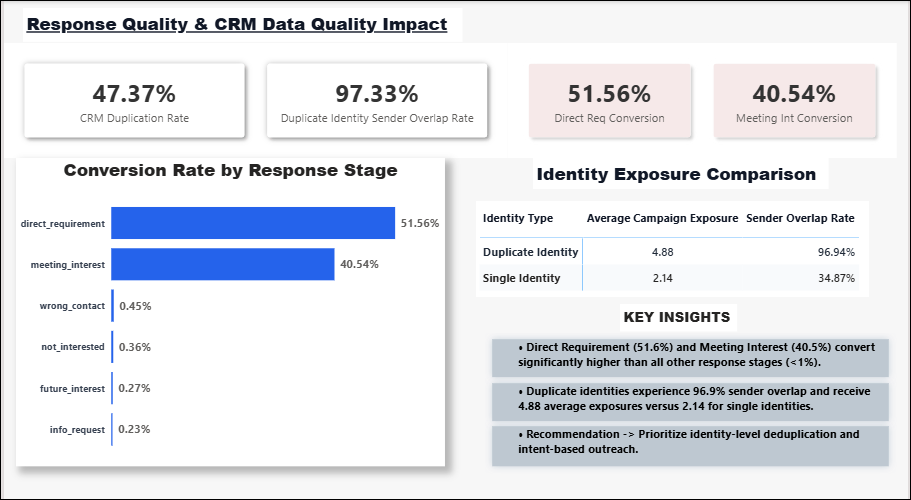

Layout of this report page (visuals, bound fields, positions):
{"tool":"powerbi","page":{"name":"Page 4","canvas":[1280,720],"ordinal":3},"visuals":[{"type":"textbox","box":[27.2,10.6,623.4,48.4],"z":0},{"type":"pivotTable","fields":{"Values":["Measuress.Average Campaign Exposure","Measuress.Sender Overlap Rate"],"Rows":["outbound_funnel_analysis analytical_master.Identity Type"]},"box":[668.7,282.9,556.8,136.2],"z":1000},{"type":"cardVisual","fields":{"Data":["Measuress.CRM Duplication Rate","Measuress.Duplicate Identity Sender Overlap Rate"]},"box":[0,59,714.1,163.4],"z":2000},{"type":"cardVisual","fields":{"Data":["Journey_Response_Stage.Direct Req Conversion","Journey_Response_Stage.Meeting Int Conversion"]},"box":[714.1,59,550.7,163.4],"z":3000},{"type":"textbox","box":[750.4,222.4,419.1,43.9],"z":4000},{"type":"clusteredBarChart","title":"Conversion Rate by Response Stage","fields":{"Category":["Journey_Response_Stage.response_stage"],"Y":["Journey_Response_Stage.Conv Rate %"]},"box":[16.6,222.4,608.2,437.3],"z":5000},{"type":"shape","box":[682.4,469,582.5,74.1],"z":6000},{"type":"shape","box":[682.4,531.1,582.5,74.1],"z":7000},{"type":"shape","box":[682.4,593.1,582.5,77.2],"z":8000},{"type":"textbox","box":[873,429.7,166.4,39.3],"z":9000}]}

Visuals, with their boxes in screenshot pixels (x1, y1, x2, y2), scaled from the page's 1280x720 canvas onto the 911x500 screenshot:
textbox: locate(19, 7, 463, 41)
pivotTable - Measuress.Average Campaign Exposure x Measuress.Sender Overlap Rate: locate(476, 196, 872, 291)
cardVisual - Measuress.CRM Duplication Rate x Measuress.Duplicate Identity Sender Overlap Rate: locate(0, 41, 508, 154)
cardVisual - Journey_Response_Stage.Direct Req Conversion x Journey_Response_Stage.Meeting Int Conversion: locate(508, 41, 900, 154)
textbox: locate(534, 154, 832, 185)
"Conversion Rate by Response Stage" clusteredBarChart: locate(12, 154, 445, 458)
shape: locate(486, 326, 900, 377)
shape: locate(486, 369, 900, 420)
shape: locate(486, 412, 900, 465)
textbox: locate(621, 298, 740, 326)
